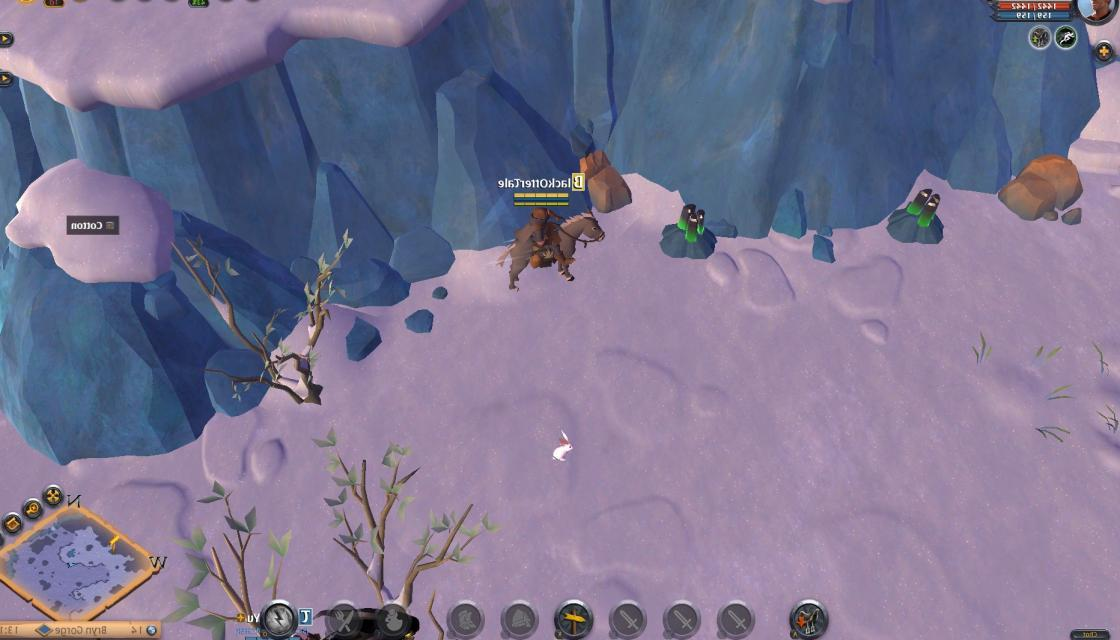limestone: (996, 151, 1090, 224), (574, 152, 631, 210)
tinore: (880, 184, 947, 248), (652, 203, 726, 258)
